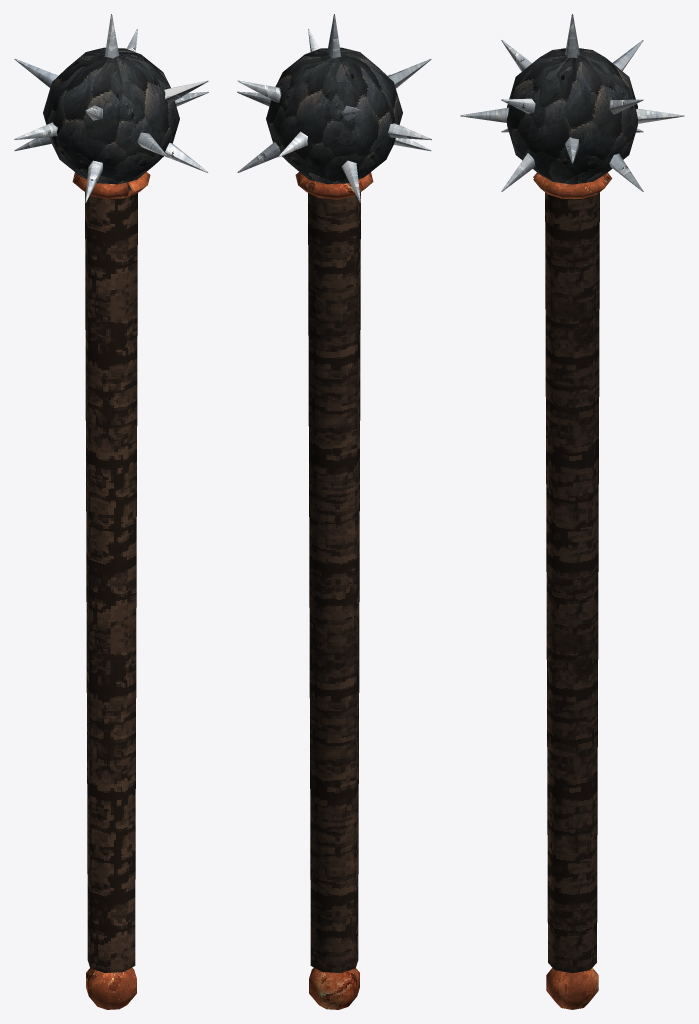
File: morning_star.glb
The picture shows the model from 3 angles, left to right: view 1: azimuth 30°, elevation 25°; view 2: azimuth 150°, elevation 25°; view 3: azimuth 270°, elevation 25°; orthographic projection.
Parts seen in each view (by area): view 1: morning_star; view 2: morning_star; view 3: morning_star.
Boxes of the visible parts, box(x1,y1,x2,y2) form: morning_star: box(14, 14, 208, 1009); morning_star: box(237, 14, 431, 1009); morning_star: box(460, 14, 684, 1009).
Bounding box in the file's own units: 0.1465 × 0.7156 × 0.1465.
1 material, 1 textured.
